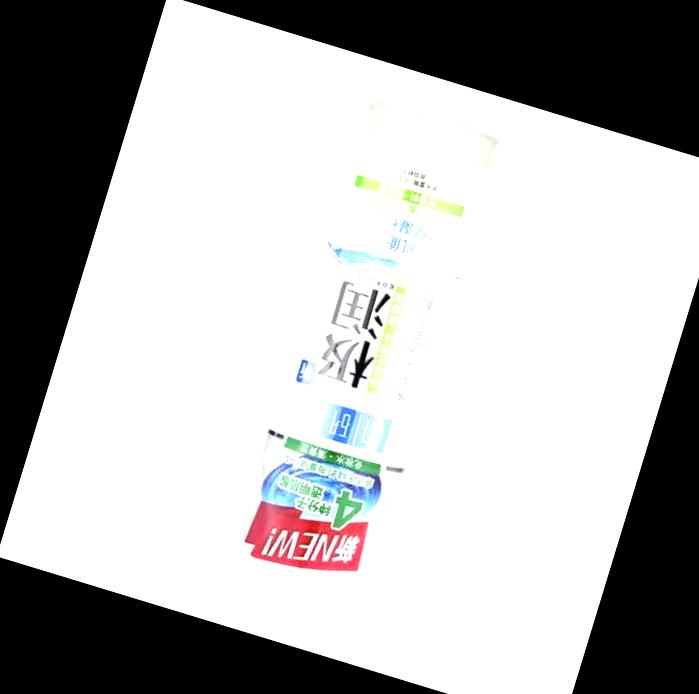cosmetic: (228, 106, 503, 616)
